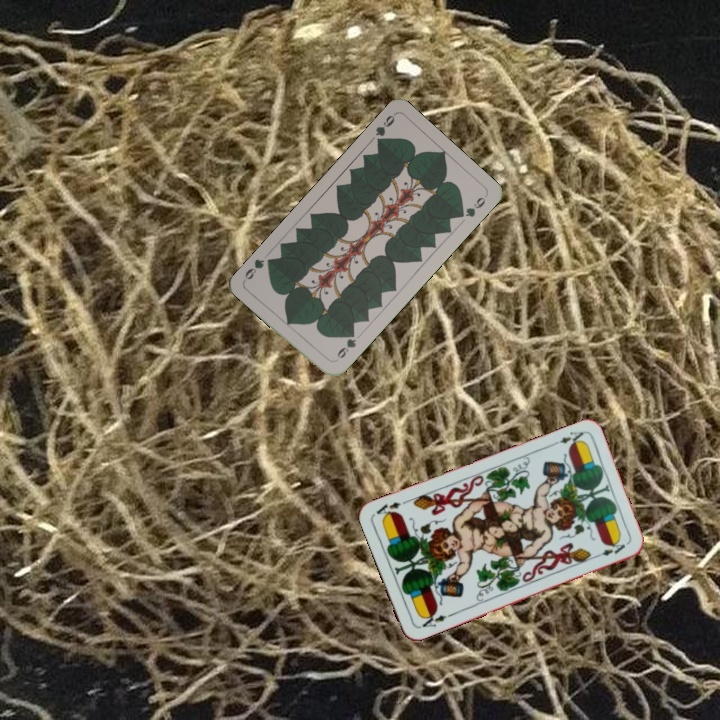EA: (415, 608, 454, 631), (548, 427, 586, 449)
G9: (330, 328, 359, 364), (371, 110, 398, 148)
